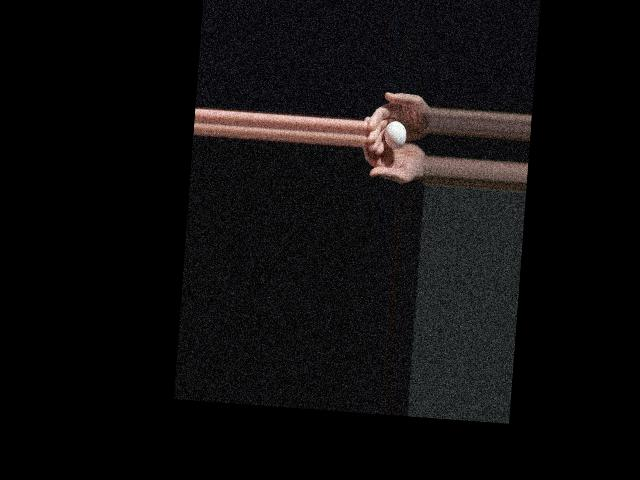egg: (383, 120, 407, 150)
